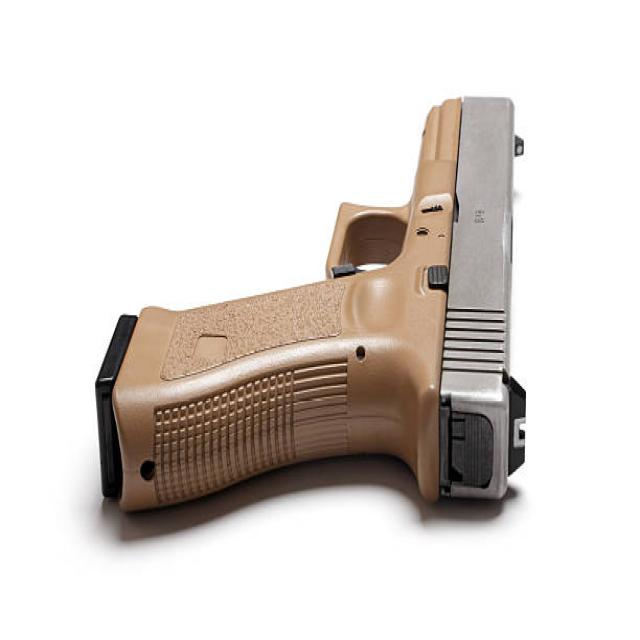pistol: (74, 87, 533, 531)
